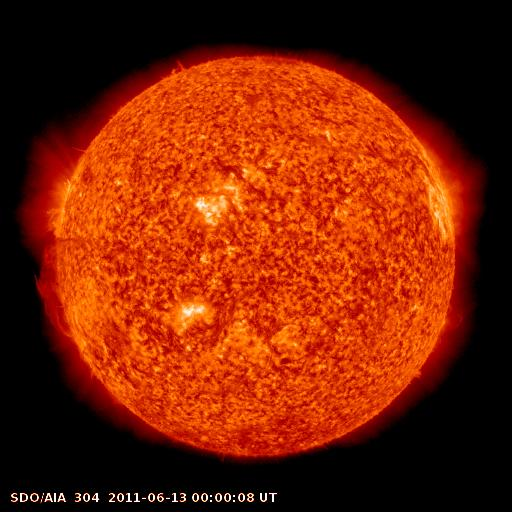prominence: (28, 240, 79, 348), (160, 47, 191, 84)
